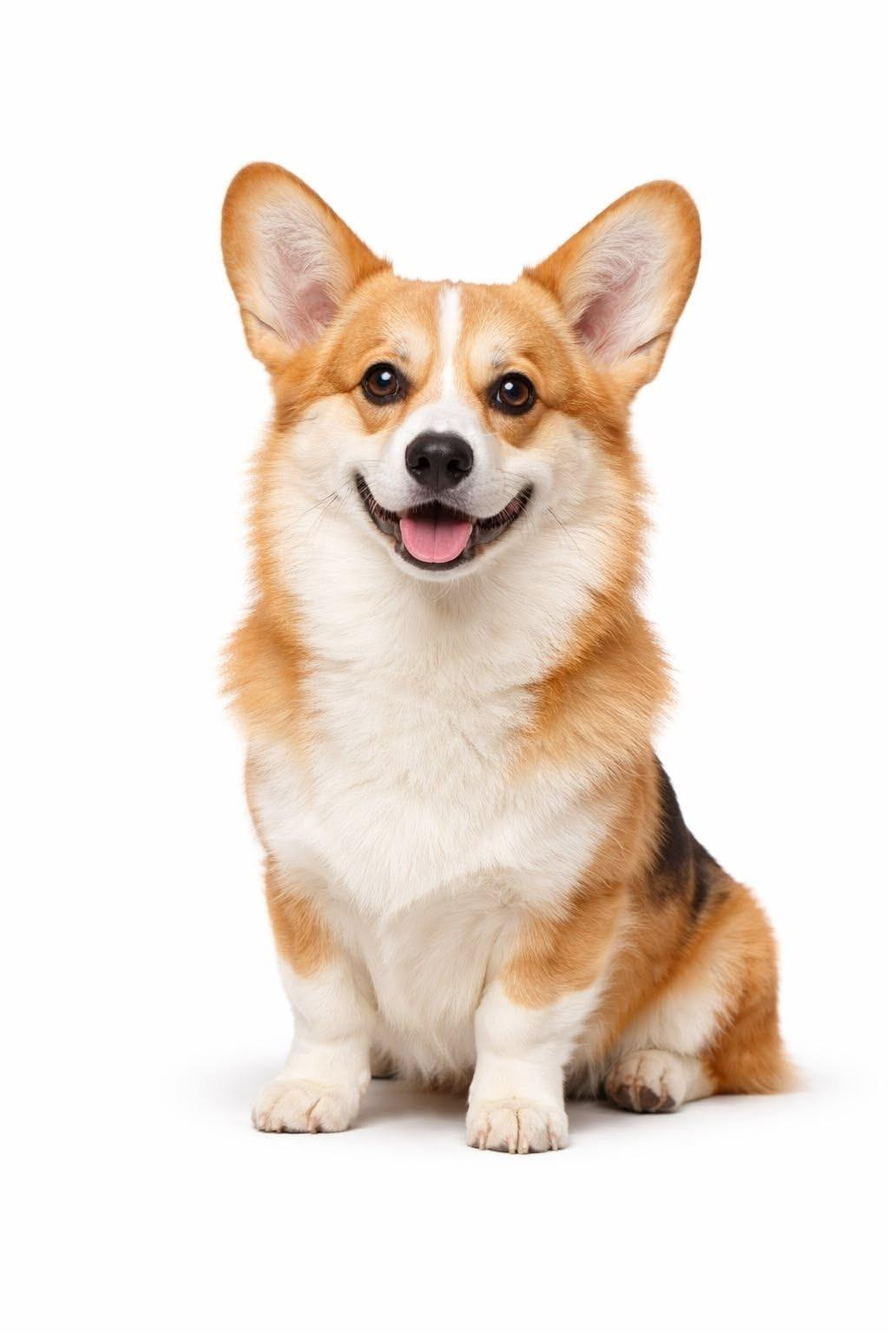adult_dog: (214, 158, 800, 1157)
